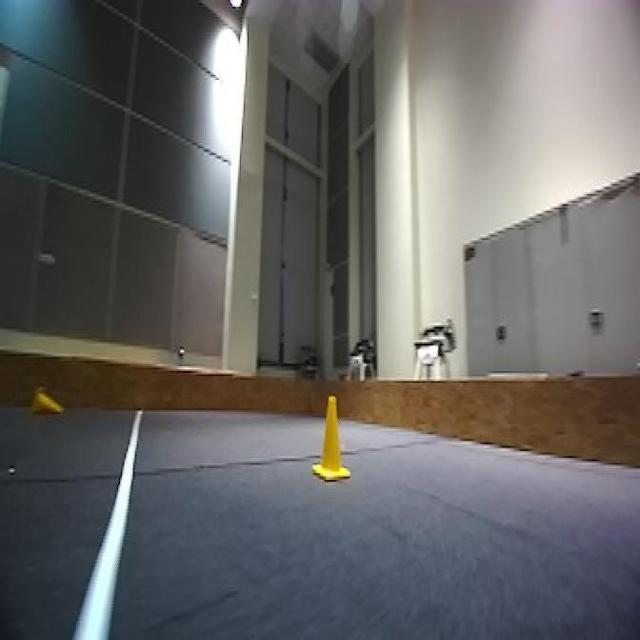frc_cone: (312, 396, 351, 482), (28, 385, 64, 417)
